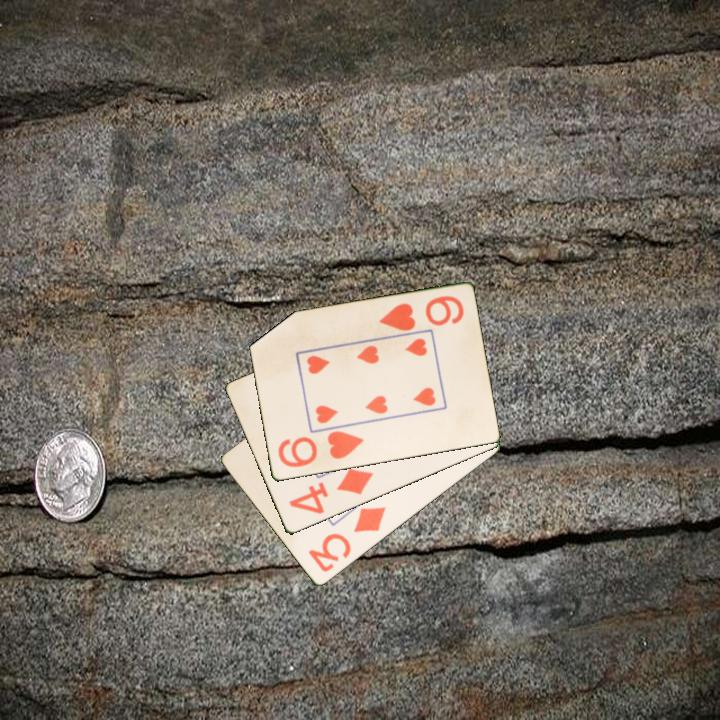3d: (305, 503, 389, 576)
4d: (285, 465, 376, 517)
6h: (274, 428, 367, 471), (375, 292, 467, 334)
